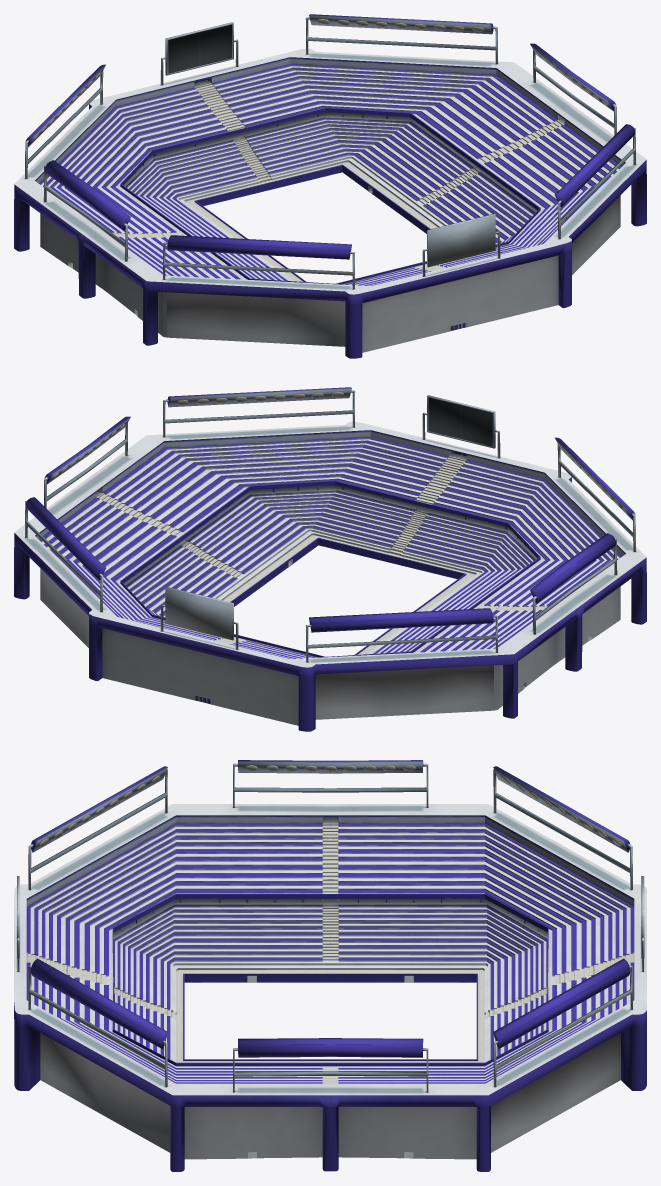
Rendered from grassScenario.gltf.
3 views of the same model, one above another, from view 1: azimuth 30°, elevation 25°; view 2: azimuth 150°, elevation 25°; view 3: azimuth 270°, elevation 25° (orthographic). The views are drawn at different scales.
Parts seen in each view (by area): view 1: stadium.baked.000_stadium_0; view 2: stadium.baked.000_stadium_0; view 3: stadium.baked.000_stadium_0.
Part boxes in pixels (x1,y1,x2,y2): stadium.baked.000_stadium_0: (14,14,646,358); stadium.baked.000_stadium_0: (14,387,646,731); stadium.baked.000_stadium_0: (14,760,646,1171).
Size of the model in its own units: 48.4 by 10.11 by 44.46.
1 material, 1 textured.
